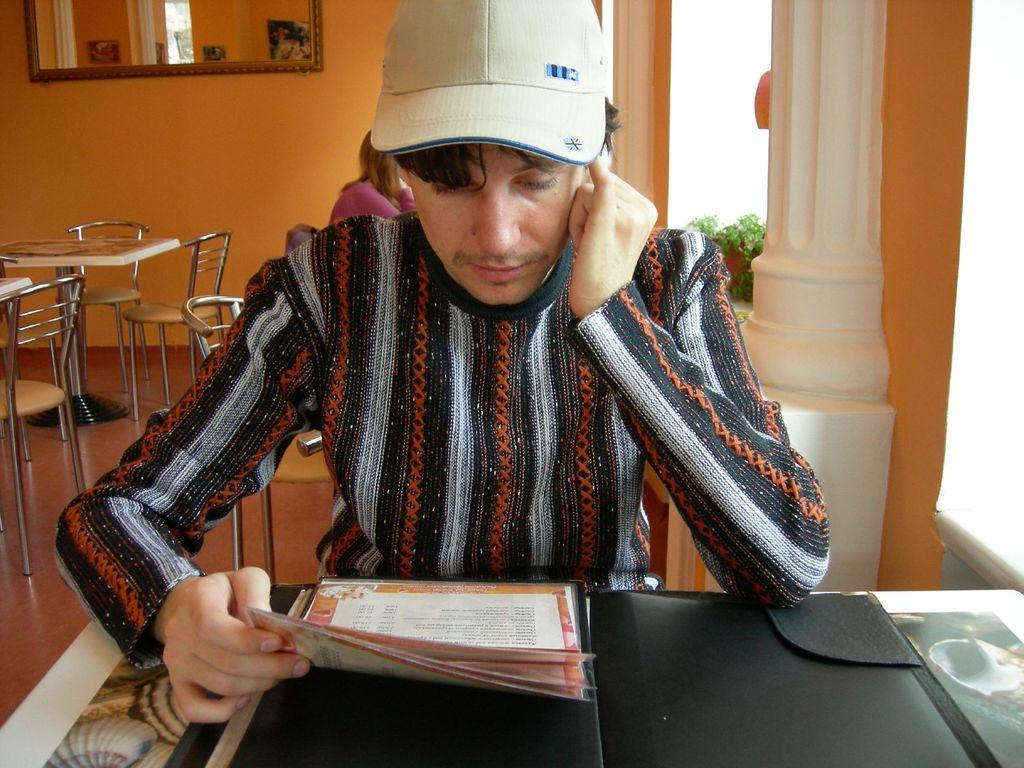Hat: (367, 0, 610, 166)
